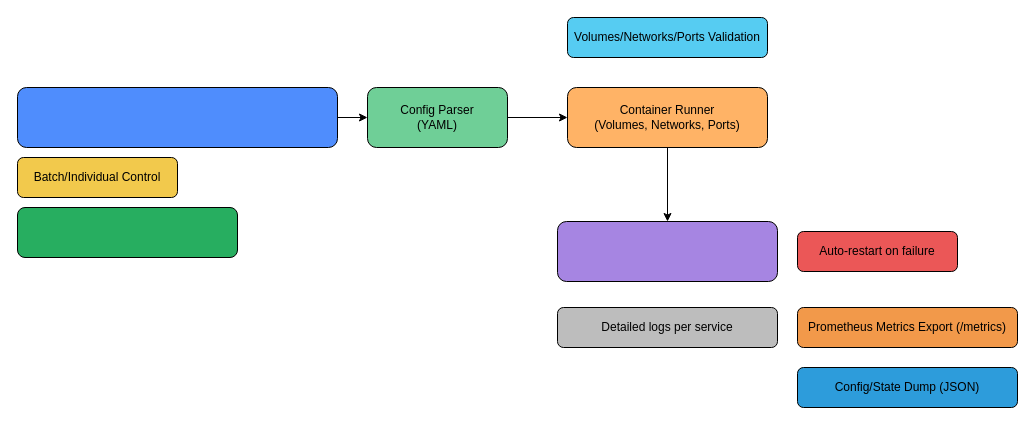
Some shapes in this 1035 by 425 pixel diagram are drawn without their labels. The centre of each missing label's shape, as x and y in pixels:
"Dashboard TUI (Terminal)" belongs at [127,232].
"DockPilot CLI (start/stop/restart/status/monitor/dashboard/metrics/dump)" belongs at [177,117].
"Health Check Loop (Classify: healthy, degraded, unreachable)" belongs at [667,251].
